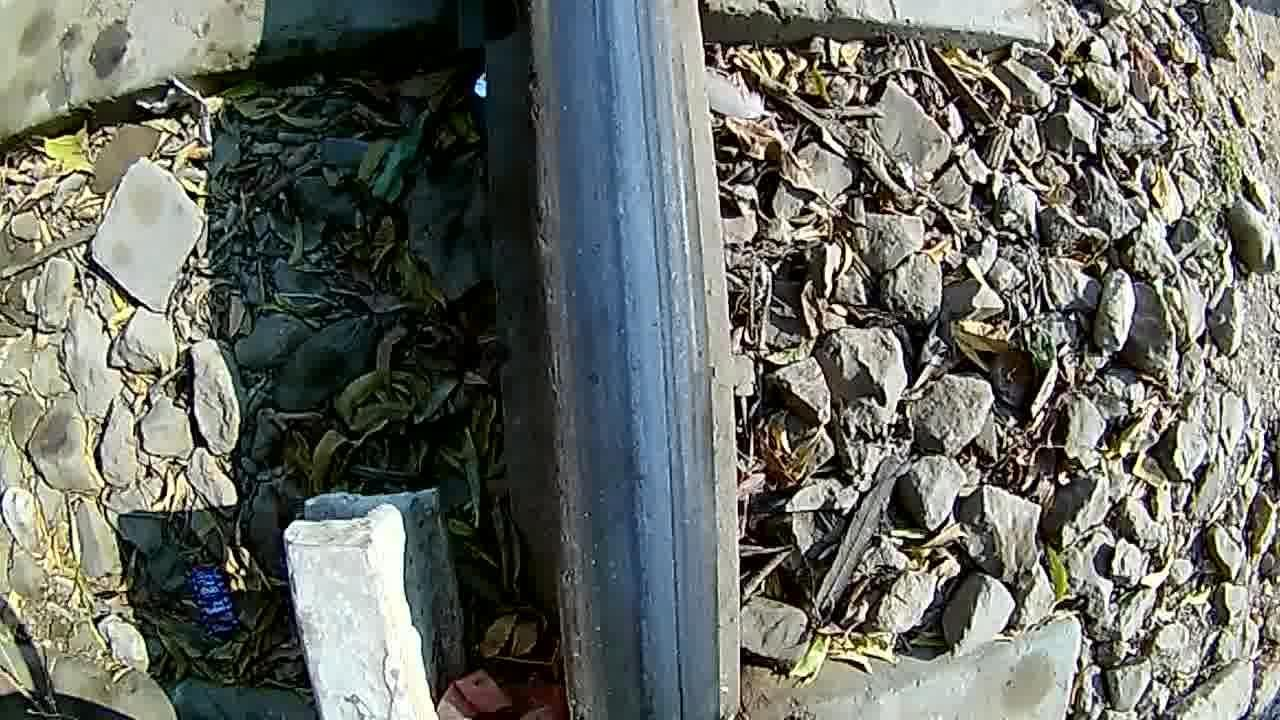crack: (522, 0, 744, 717)
